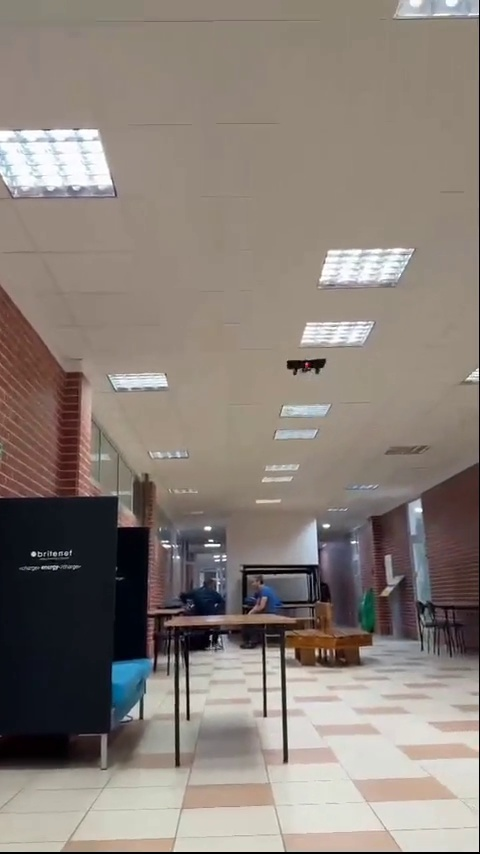drone: (286, 359, 327, 375)
no vest: (176, 574, 227, 614), (242, 575, 289, 610)
